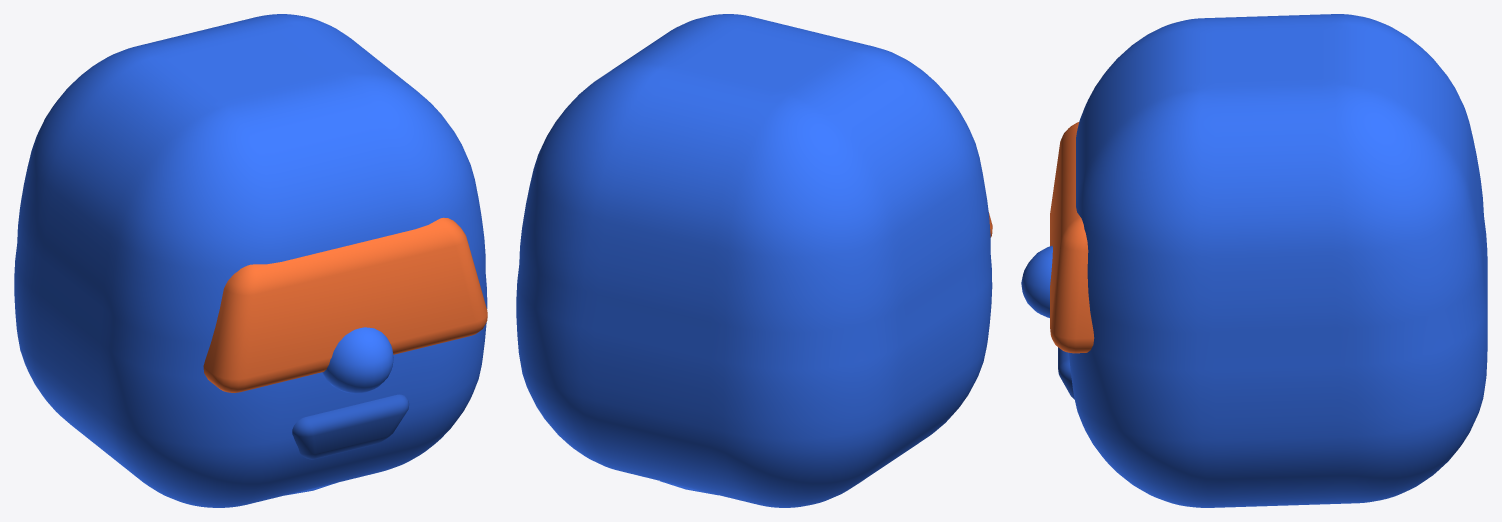
Rendered from RoboHead.fbx.
3 renders of one model, left to right at view 1: azimuth 30°, elevation 25°; view 2: azimuth 150°, elevation 25°; view 3: azimuth 270°, elevation 25°, orthographic. The views are drawn at different scales.
Visible parts, largest first — view 1: RoboHead; view 2: RoboHead; view 3: RoboHead.
Part boxes in pixels (x1=…): RoboHead: x1=14, y1=14, x2=487, y2=507; RoboHead: x1=516, y1=14, x2=992, y2=507; RoboHead: x1=1021, y1=14, x2=1487, y2=507.
Bounding box in the file's own units: 17.47 × 18.19 × 18.82.
